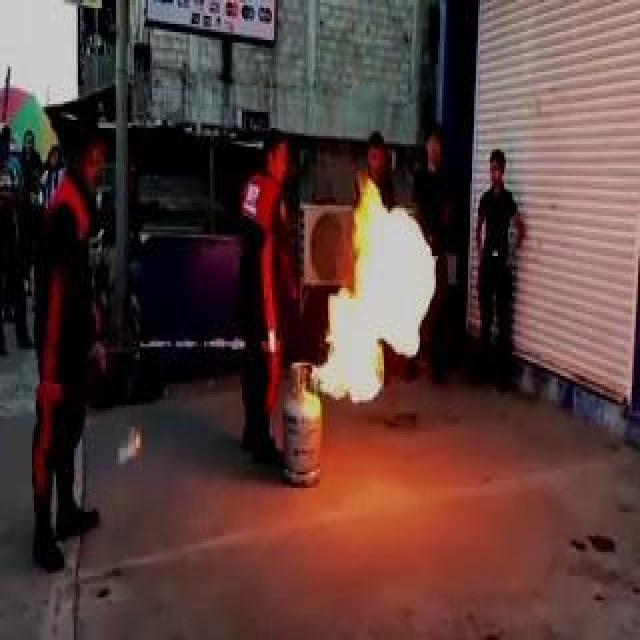Fire: (322, 188, 429, 406)
